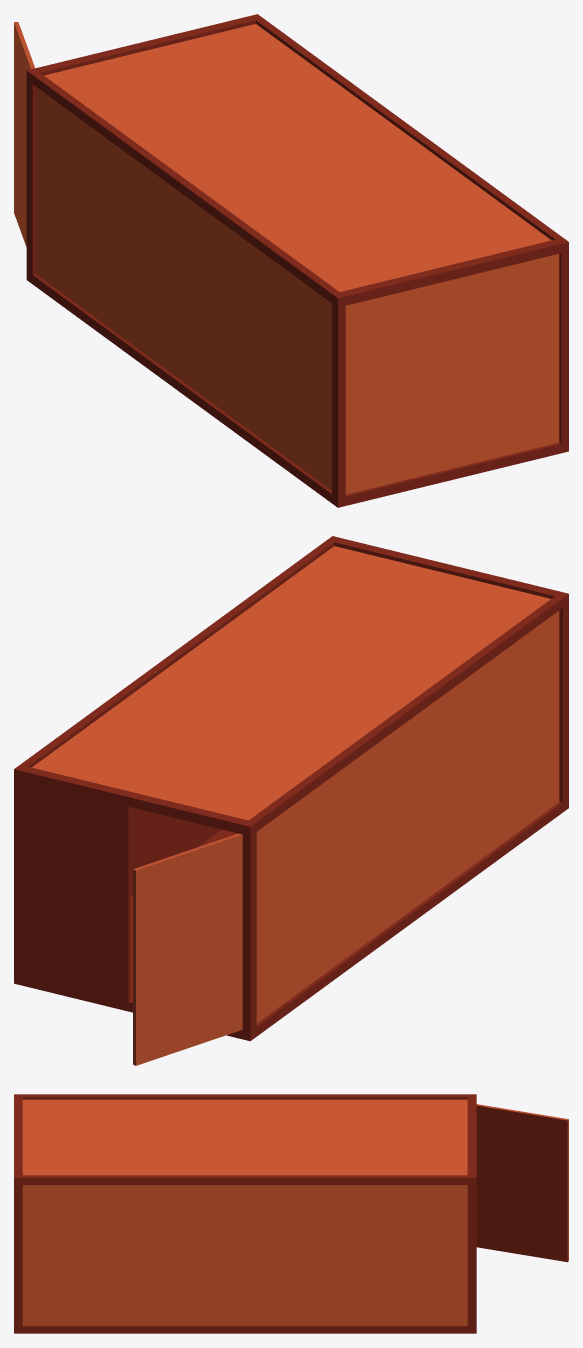
File: container_shipping.glb
3 renders of one model, top to bottom at view 1: azimuth 30°, elevation 25°; view 2: azimuth 150°, elevation 25°; view 3: azimuth 270°, elevation 25°, orthographic. The views are drawn at different scales.
Visible parts, largest first — view 1: Cargo_Container_White_Boxes; view 2: Cargo_Container_White_Boxes; view 3: Cargo_Container_White_Boxes.
Boxes of the visible parts, <box> form: Cargo_Container_White_Boxes: <box>14,14,568,507</box>; Cargo_Container_White_Boxes: <box>14,536,568,1065</box>; Cargo_Container_White_Boxes: <box>14,1094,568,1333</box>.
Size of the model in its own units: 3 by 2.6 by 8.4.
Materials: 1 (1 with a texture image).
